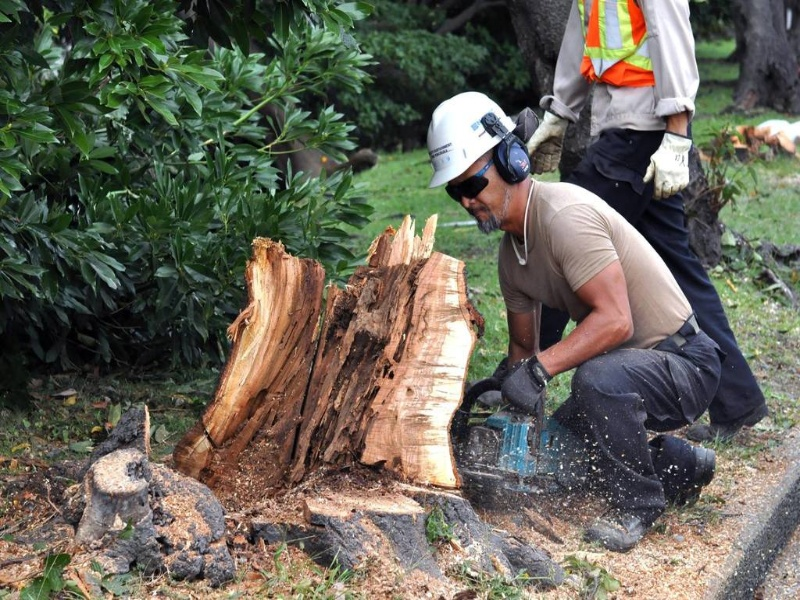Baret: (428, 88, 518, 187)
